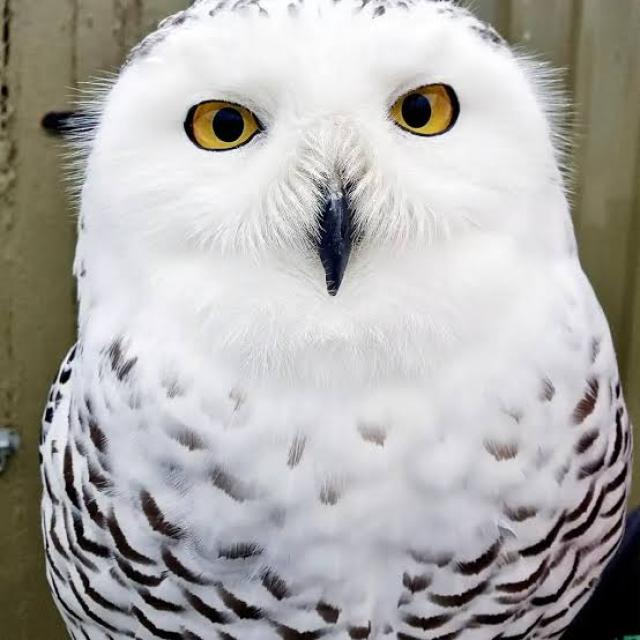snowy owl: (64, 8, 611, 626)
